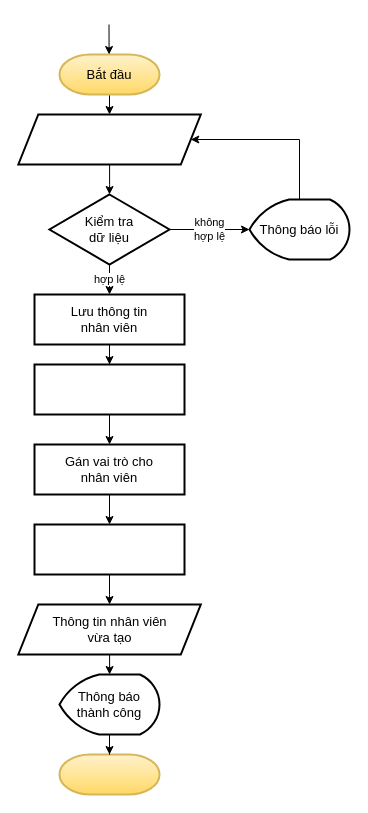
The diagram is 368 pixels wide and 813 high, and some of its shapes have lost their labels. The shapes that lost their labels are listed below. From the top down, each one's centre as x and y in pixels, then its label:
At (109,139): "Thông tin nhân viên".
At (109,389): "Lấy danh sách vai trò".
At (109,549): "Thêm nhân viên vào cửa hàng".
At (109,774): "Kết thúc".
